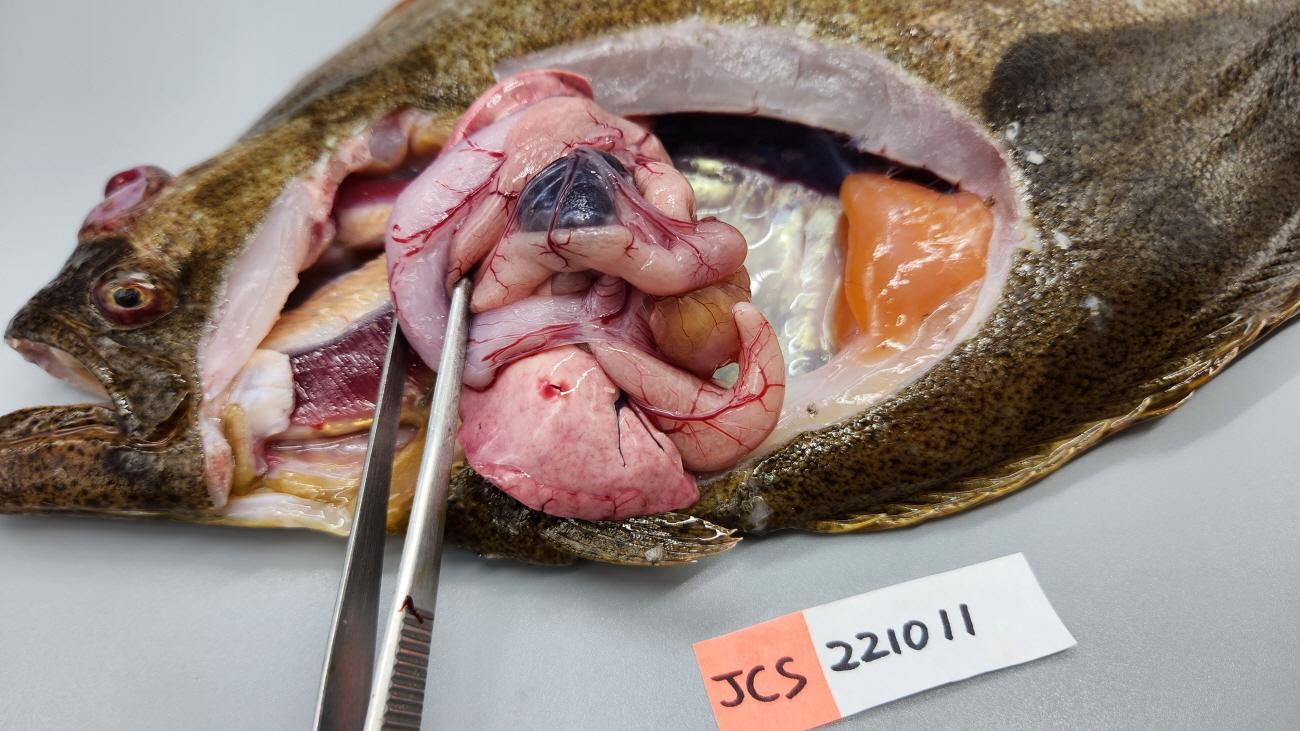VISPE: (520, 154, 612, 228)
